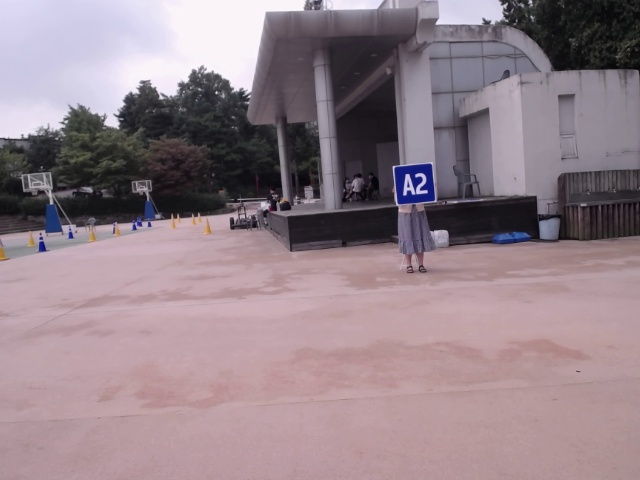delivery_a2: (393, 163, 436, 205)
